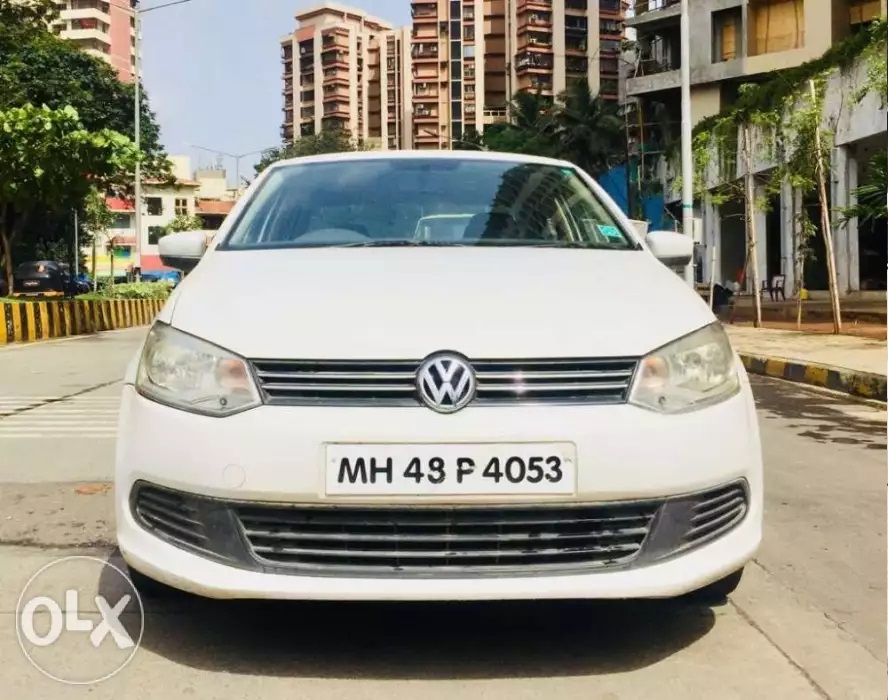licenseplate: (320, 440, 577, 502)
